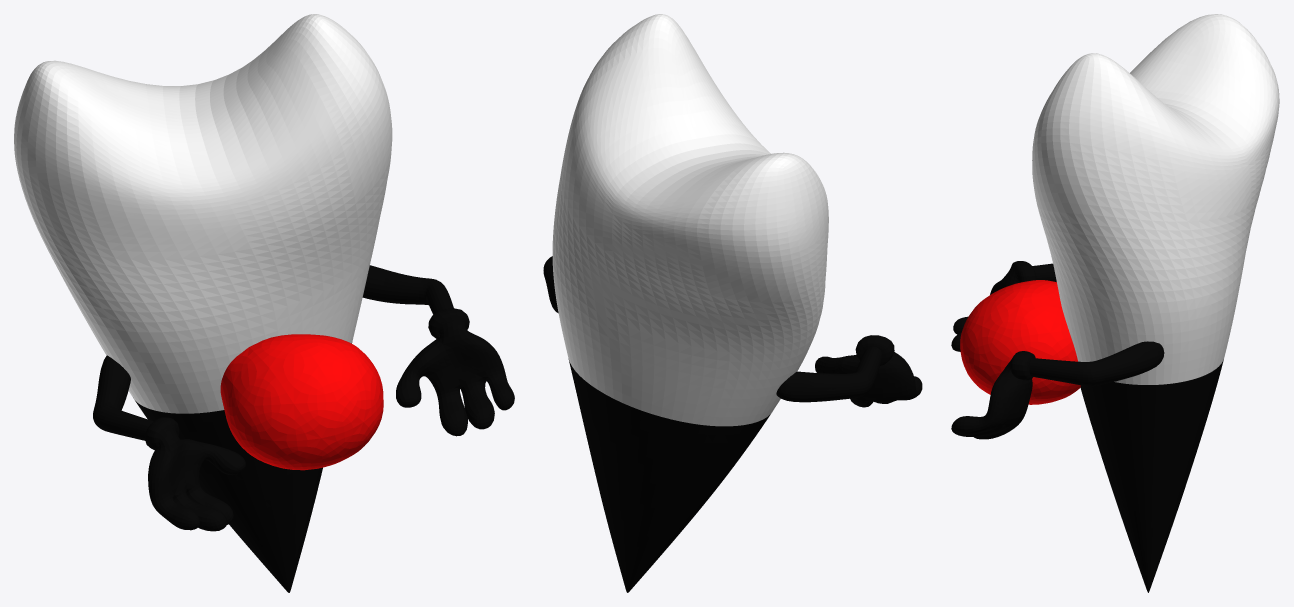
File: java-dukezombie09.obj
3 views of the same model, side by side, from view 1: azimuth 30°, elevation 25°; view 2: azimuth 150°, elevation 25°; view 3: azimuth 270°, elevation 25° (orthographic). The views are drawn at different scales.
Visible parts, largest first — view 1: javadude, javadude_hands, javadude_nase; view 2: javadude, javadude_hands; view 3: javadude, javadude_nase, javadude_hands.
Part boxes in pixels (box(x1,y1,x2,y2)): javadude: box(14, 14, 392, 592); javadude_hands: box(93, 265, 514, 531); javadude_nase: box(220, 334, 383, 470); javadude: box(552, 14, 828, 592); javadude_hands: box(543, 256, 922, 407); javadude: box(1032, 14, 1279, 592); javadude_nase: box(960, 280, 1080, 404); javadude_hands: box(951, 261, 1164, 439).
Bounding box in the file's own units: 2.62 × 4.18 × 2.32.
